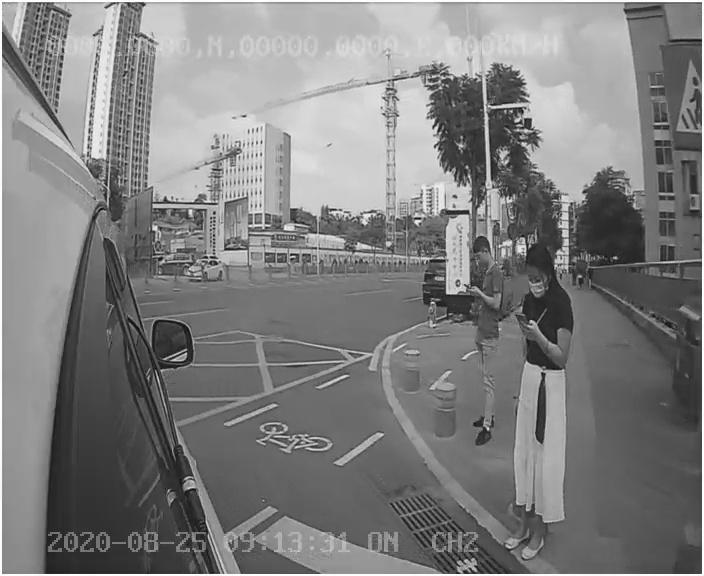person: (505, 247, 585, 568)
